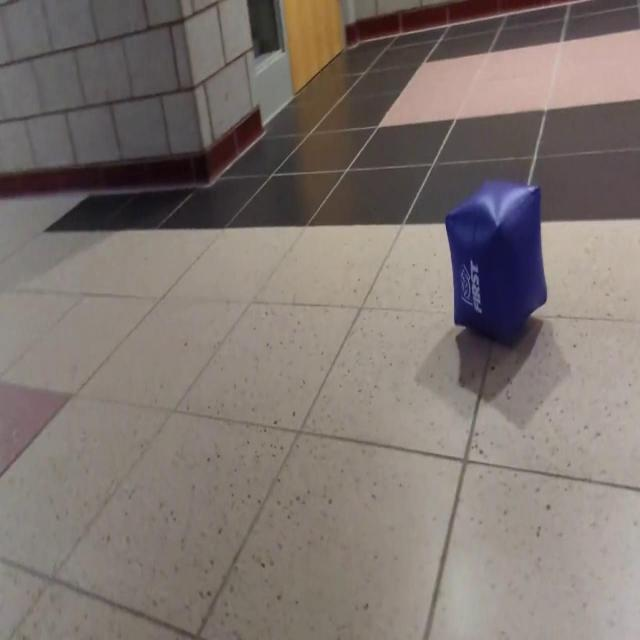frc_cube: (443, 174, 545, 347)
